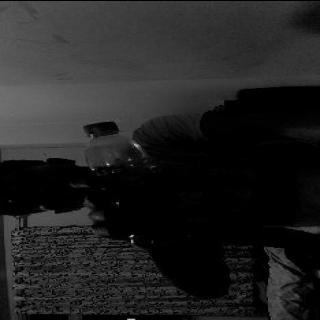plastic_bottles: (80, 119, 192, 250)
